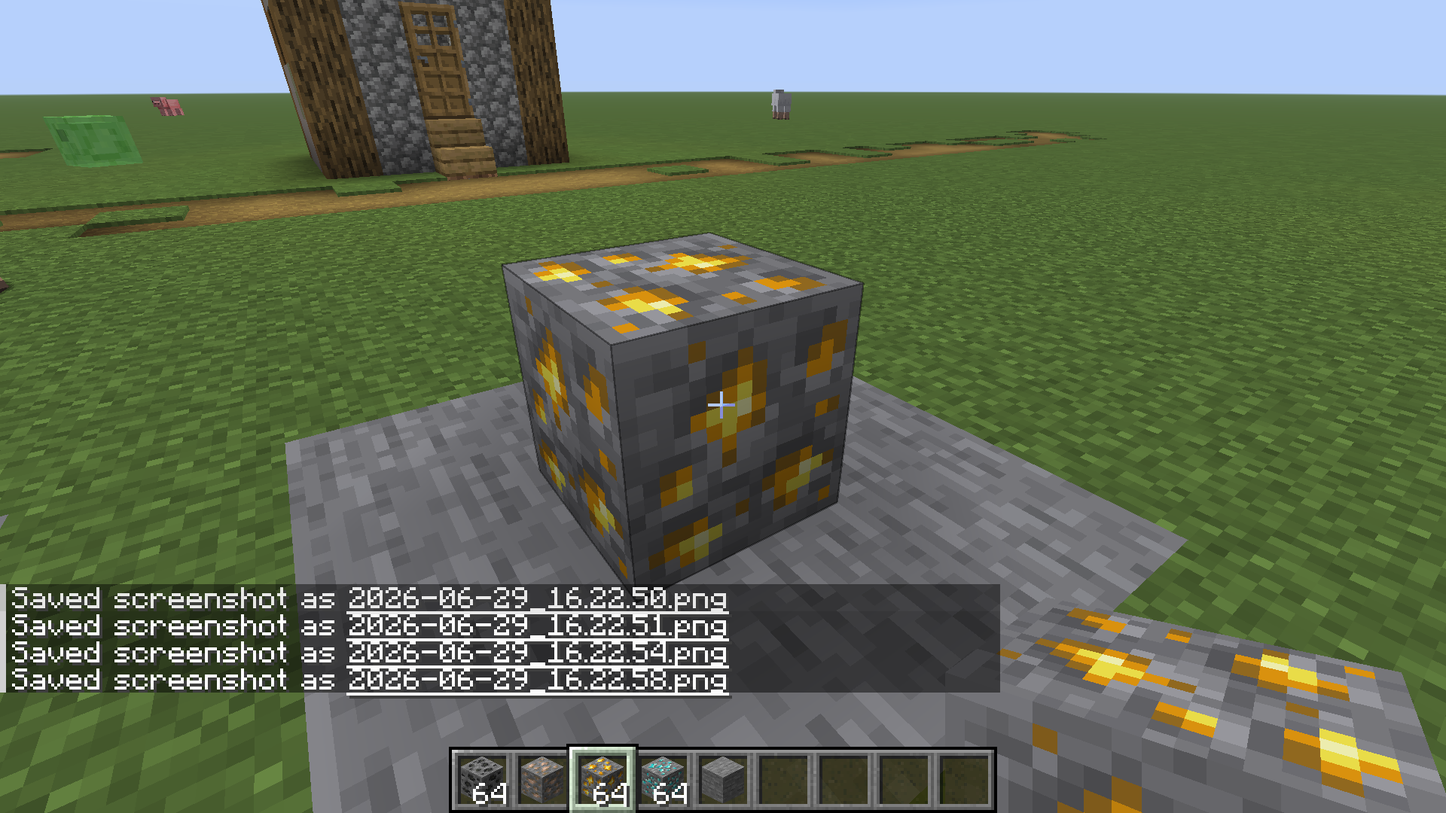Sheep: (771, 76, 801, 123)
gold ore: (506, 235, 868, 589), (1045, 600, 1412, 813)
